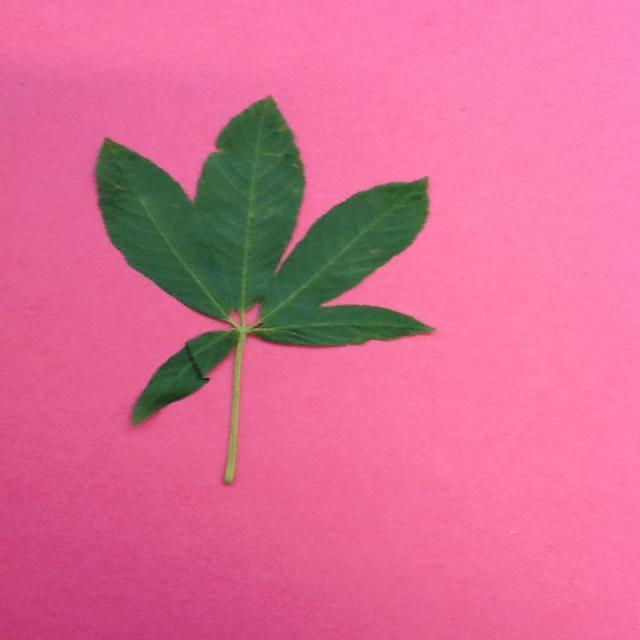foliage: (242, 172, 436, 331), (196, 94, 311, 343), (91, 132, 231, 326), (122, 325, 238, 425), (231, 302, 440, 348)
